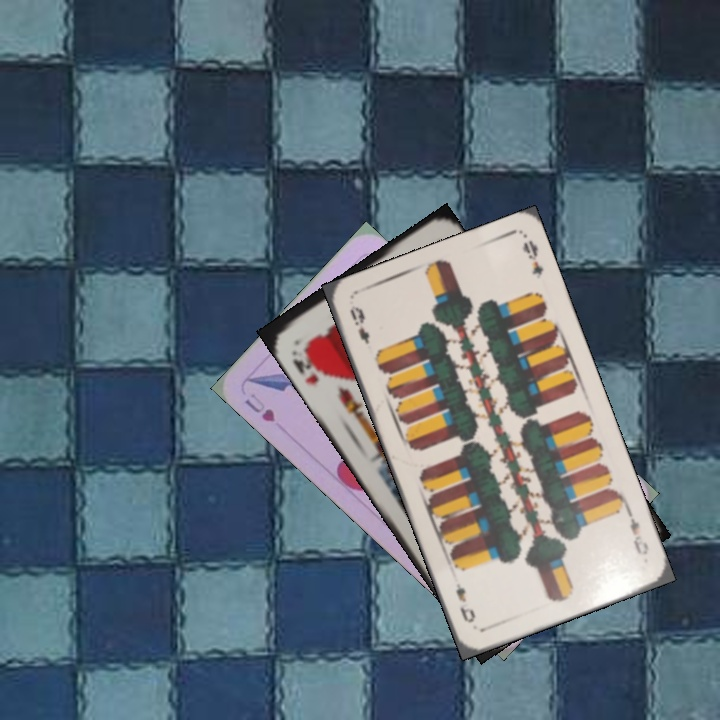E9: (623, 506, 652, 558), (345, 301, 373, 347)
HK: (287, 343, 328, 388)
HU: (240, 389, 278, 425)
